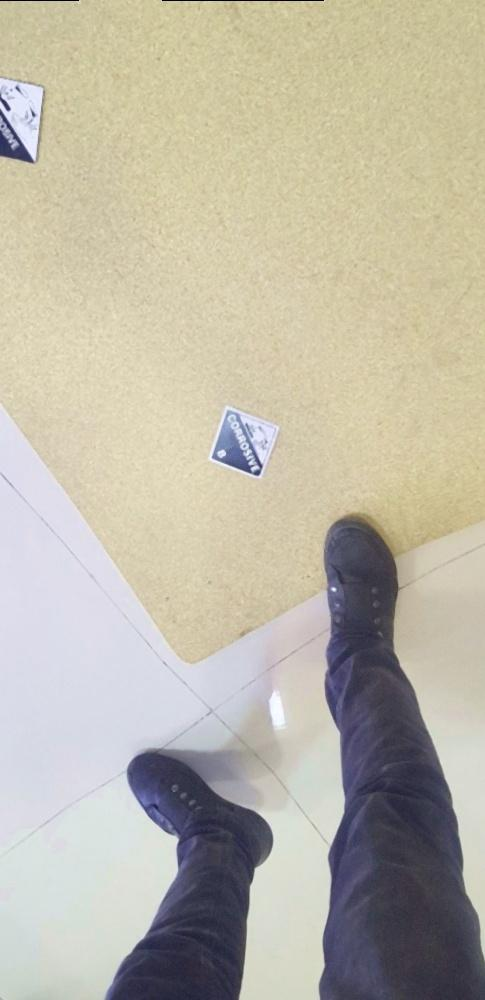corrosive: (209, 407, 281, 478)
